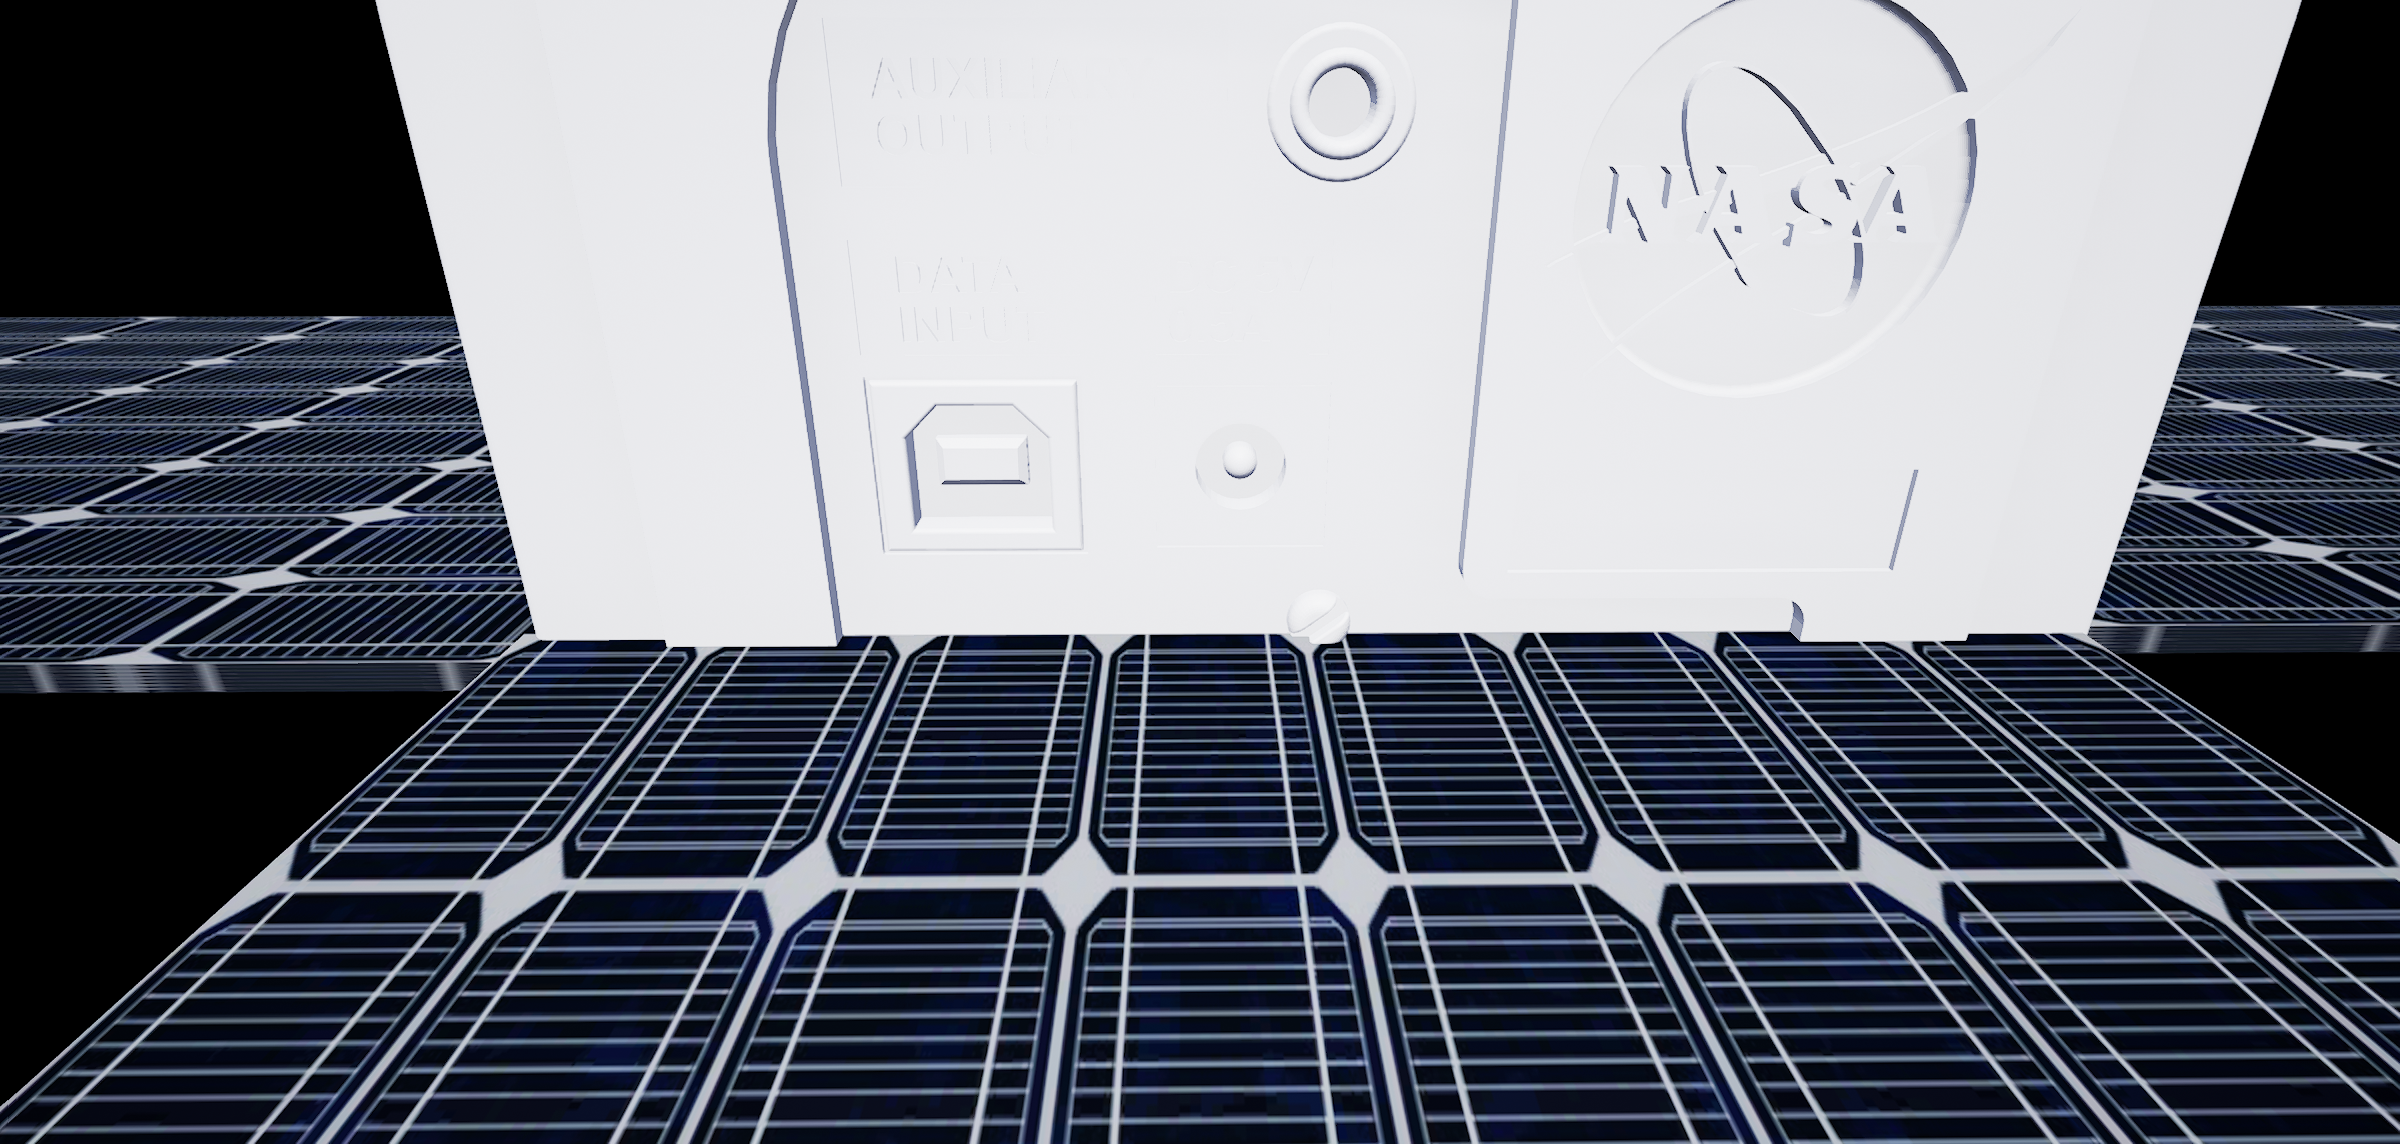aux: (1260, 11, 1427, 193)
dc: (1183, 423, 1309, 524)
usb: (900, 394, 1071, 536)
